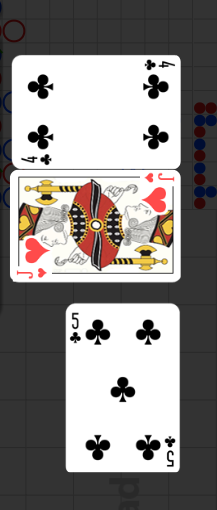4C: (20, 152, 54, 166)
5C: (162, 433, 176, 468), (68, 311, 82, 346)
